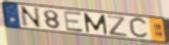8: (42, 10, 63, 30)
C: (128, 16, 150, 40)
E: (63, 11, 86, 34)
M: (82, 12, 109, 35)
N: (19, 6, 43, 29)
Z: (106, 14, 129, 38)
